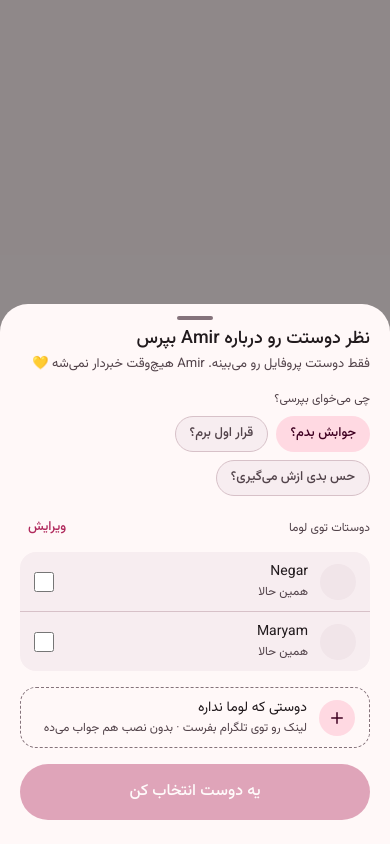
AskSheet › submits members + links with the chosen question, then opens Telegram share for the first link
expect the text "Negar" is shown: met, box [270,561,308,583]
Click the radio button labelled "قرار اول برم؟" at (222, 434), box [175,416,268,452]
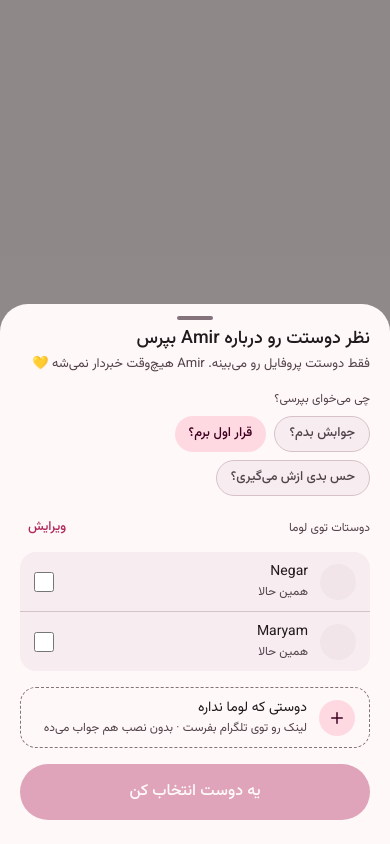
Click the checkbox labelled "Negar" at (44, 582), box [34,572,54,592]
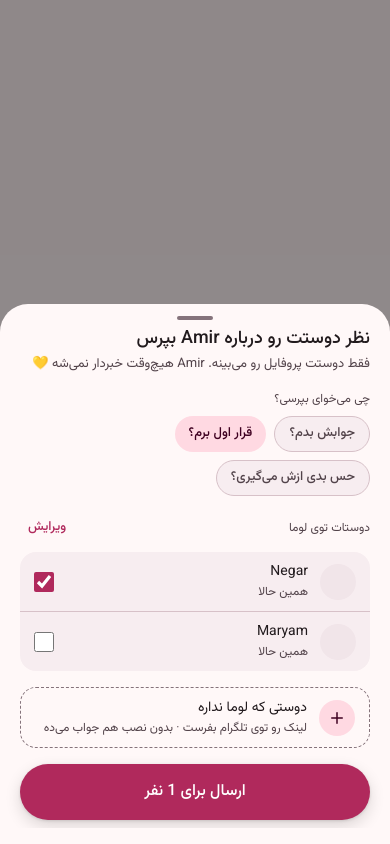
Click the button with test id "ask-add-link" at (195, 718), box [35,698,355,737]
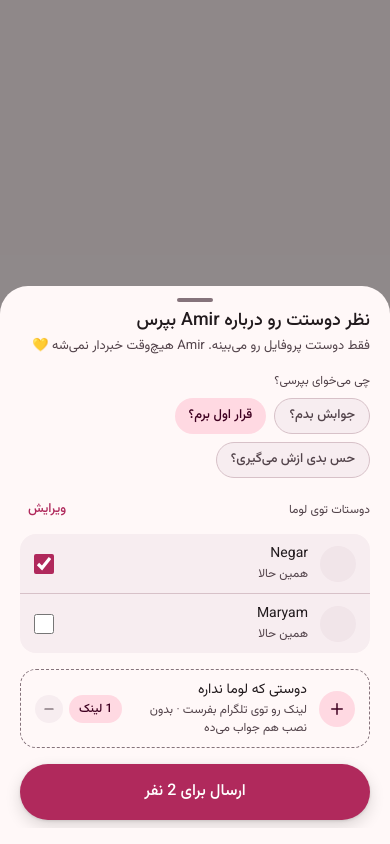
Click the button with test id "ask-add-link" at (245, 708), box [134,680,355,737]
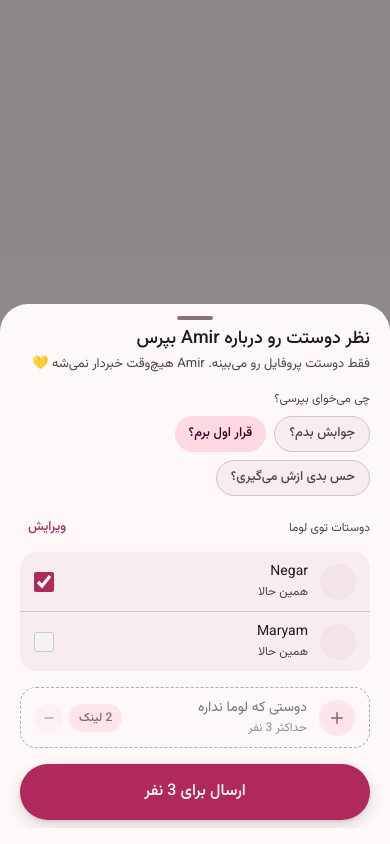
Click the button "ارسال برای 3 نفر" at (195, 792), box [20,764,370,820]
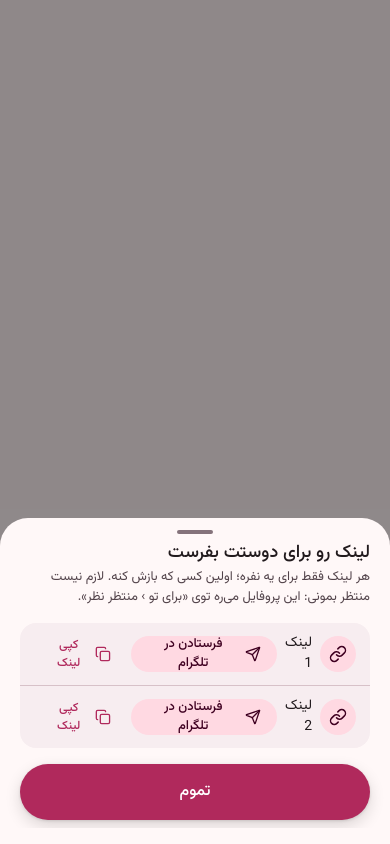
expect the element with test id "ask-share-step" is shown: met, box [20,542,370,828]
expect the number of buttons "فرستادن در تلگرام" is 2: met, box [131,636,277,672]; [131,699,277,735]
expect the number of buttons "کپی لینک" is 2: met, box [34,636,123,672]; [34,699,123,735]
